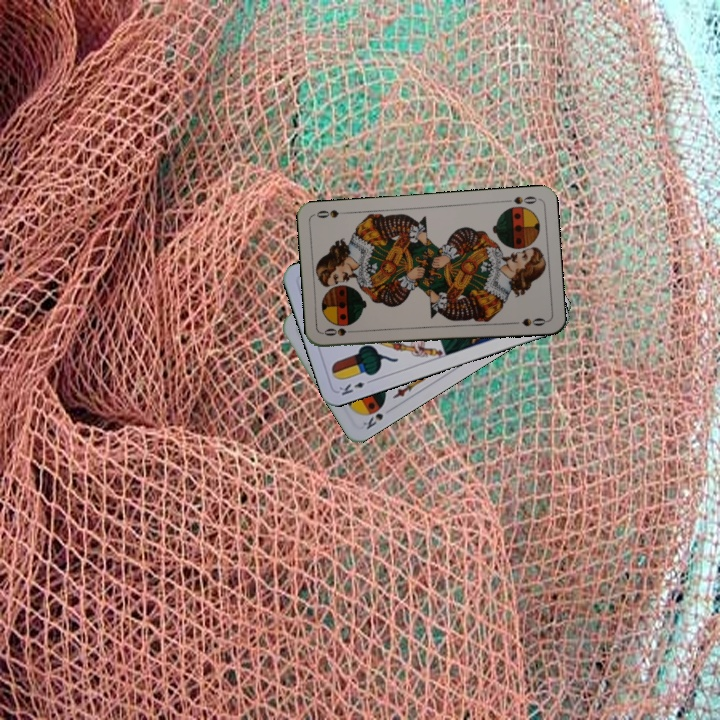EK: (335, 375, 375, 398)
SK: (359, 401, 387, 432)
SO: (500, 192, 539, 207), (320, 324, 361, 338)
